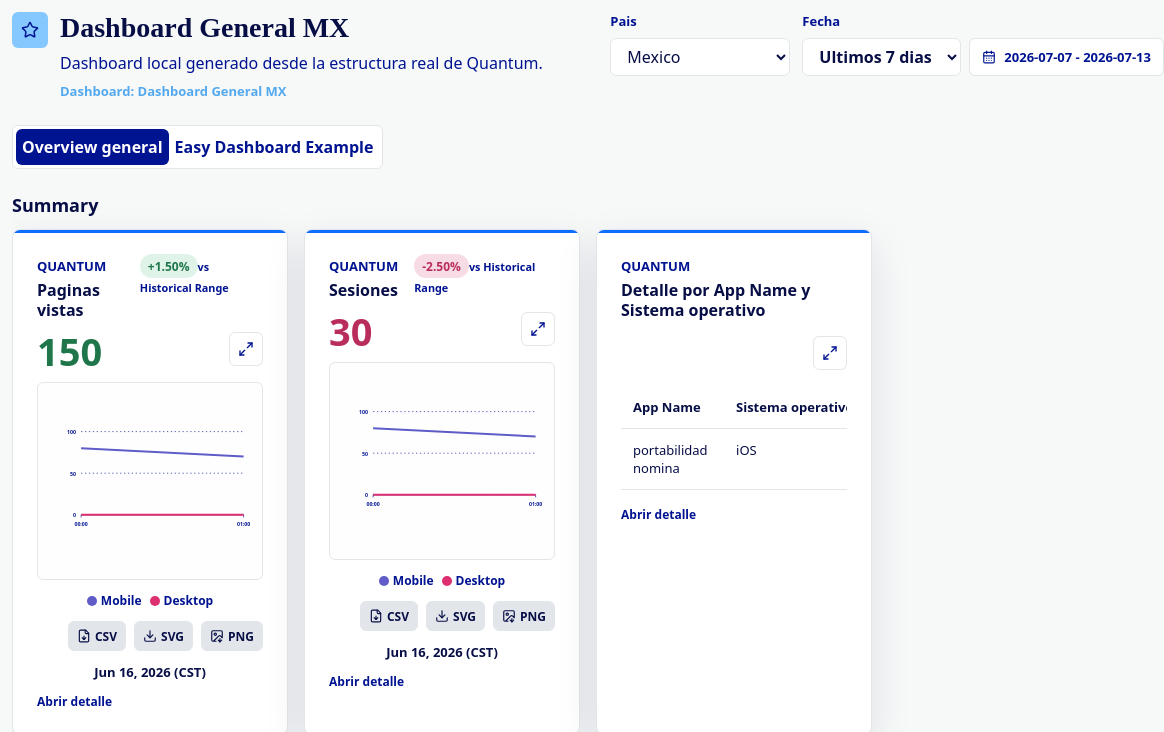
Test: HomePage local dashboard › renderiza tablas genericas sin pedir endpoints legacy de detalle
The image size is (1164, 732).
Click the tab "Easy Dashboard Example" at (274, 147), box [169,129,379,165]
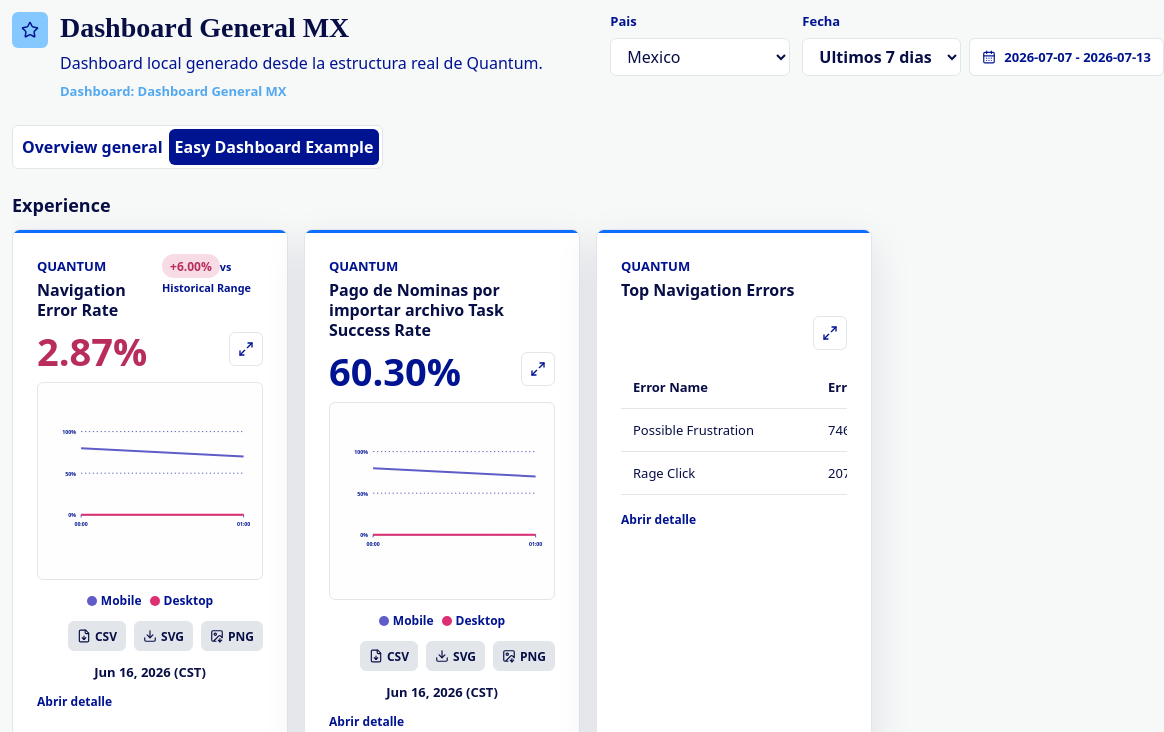
Expected: the heading "Top Navigation Errors" is shown, [621,280,794,300]
Expected: the text "Possible Frustration" is shown, [621,409,816,452]
